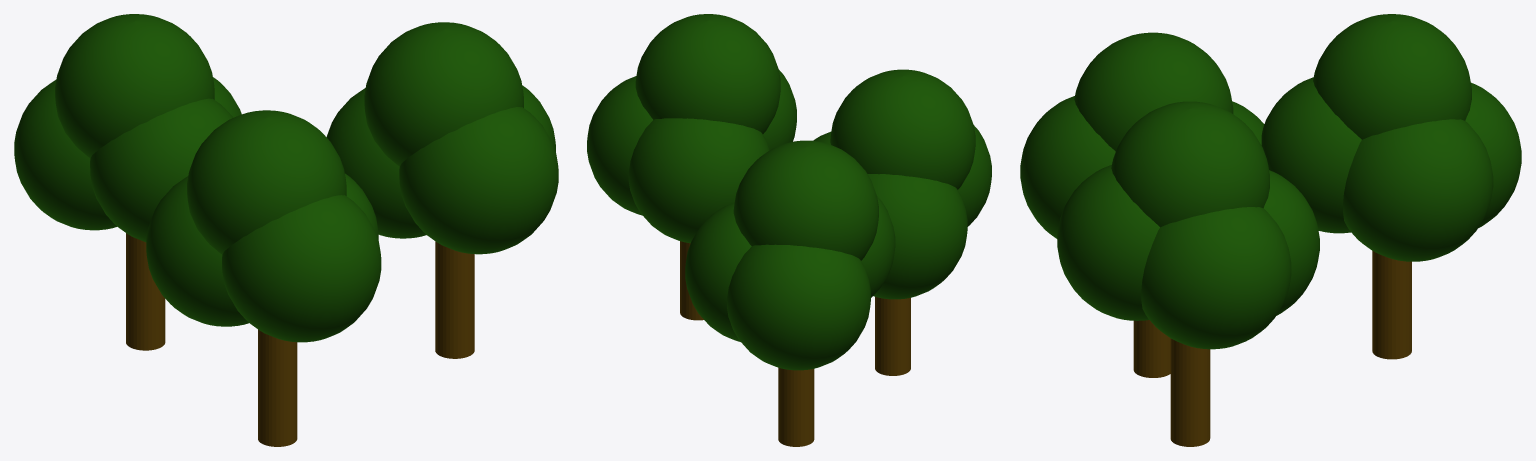
Rendered from trees.fbx.
The picture shows the model from 3 angles, left to right: view 1: azimuth 30°, elevation 25°; view 2: azimuth 150°, elevation 25°; view 3: azimuth 270°, elevation 25°; orthographic projection. The views are drawn at different scales.
Visible parts, largest first — view 1: SurfSphere.007, SurfSphere.015, SurfSphere.002, SurfSphere.005, SurfSphere.013, SurfSphere, SurfSphere.001, SurfSphere.006, SurfSphere.014, Cylinder.003, Cylinder.001, Cylinder (+3 smaller); view 2: SurfSphere.001, SurfSphere.013, SurfSphere.002, SurfSphere.005, SurfSphere.014, SurfSphere.006, SurfSphere.012, SurfSphere.003, Cylinder, Cylinder.001, SurfSphere.007, SurfSphere (+2 smaller); view 3: SurfSphere.003, SurfSphere.012, SurfSphere.002, SurfSphere.013, SurfSphere.005, SurfSphere.015, SurfSphere, SurfSphere.007, Cylinder.003, Cylinder, SurfSphere.014, SurfSphere.001 (+2 smaller).
Boxes of the visible parts, x1,y1,x2,y2 form: SurfSphere.007: [222, 195, 381, 342]; SurfSphere.015: [399, 107, 558, 254]; SurfSphere.002: [55, 14, 214, 157]; SurfSphere.005: [187, 110, 346, 254]; SurfSphere.013: [364, 22, 523, 166]; SurfSphere: [90, 98, 233, 242]; SurfSphere.001: [14, 80, 117, 230]; SurfSphere.006: [146, 176, 248, 326]; SurfSphere.014: [326, 88, 426, 238]; Cylinder.003: [435, 241, 474, 358]; Cylinder.001: [258, 329, 297, 446]; Cylinder: [126, 233, 165, 350]; SurfSphere.001: [727, 244, 870, 370]; SurfSphere.013: [635, 14, 780, 133]; SurfSphere.002: [733, 140, 878, 260]; SurfSphere.005: [830, 69, 975, 189]; SurfSphere.014: [628, 118, 769, 243]; SurfSphere.006: [867, 174, 967, 299]; SurfSphere.012: [587, 76, 652, 215]; SurfSphere.003: [685, 202, 751, 341]; Cylinder: [778, 367, 814, 446]; Cylinder.001: [875, 296, 910, 375]; SurfSphere.007: [958, 125, 991, 226]; SurfSphere: [861, 196, 895, 297]; SurfSphere.003: [1343, 119, 1493, 261]; SurfSphere.012: [1141, 207, 1291, 349]; SurfSphere.002: [1313, 14, 1471, 139]; SurfSphere.013: [1111, 101, 1269, 227]; SurfSphere.005: [1074, 32, 1233, 151]; SurfSphere.015: [1057, 165, 1159, 320]; SurfSphere: [1261, 77, 1361, 233]; SurfSphere.007: [1020, 96, 1115, 238]; Cylinder.003: [1170, 338, 1210, 446]; Cylinder: [1372, 251, 1411, 359]; SurfSphere.014: [1263, 170, 1319, 315]; SurfSphere.001: [1465, 82, 1521, 227].
Size of the model in its own units: 585 by 482 by 624.
